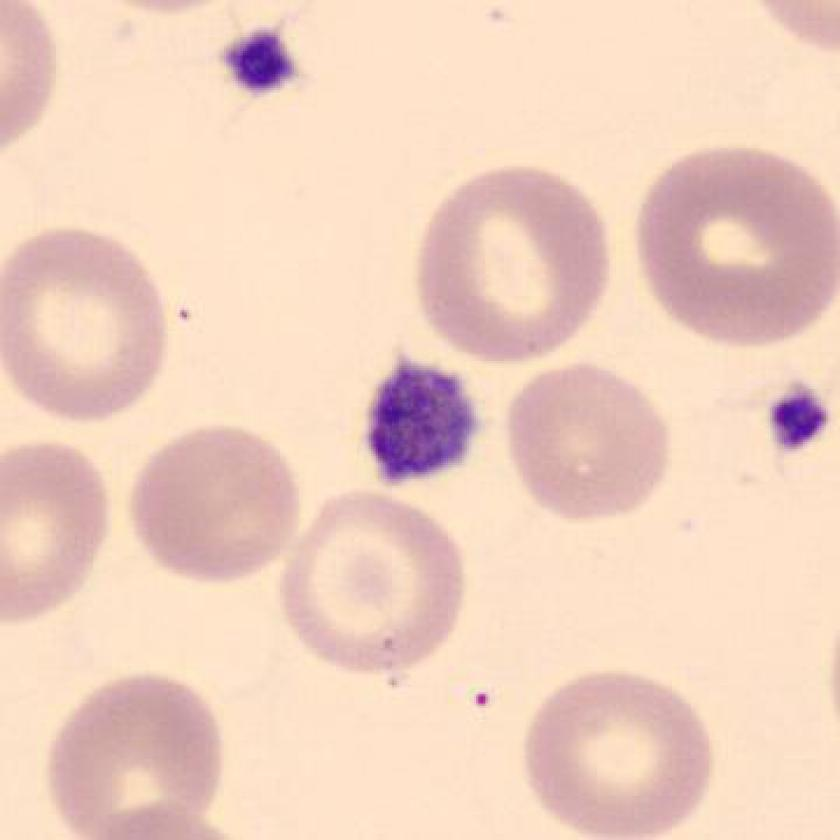platelets: (347, 353, 494, 501), (204, 13, 318, 112), (757, 374, 836, 473)
